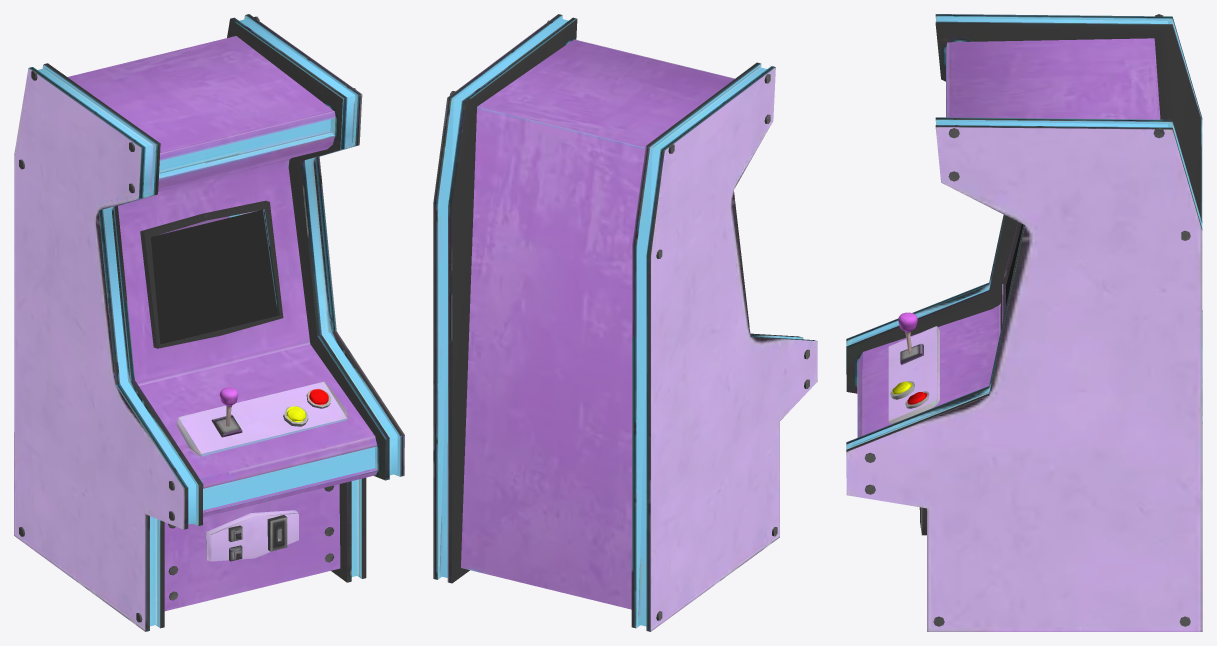
File: arcade.glb
3 renders of one model, left to right at view 1: azimuth 30°, elevation 25°; view 2: azimuth 150°, elevation 25°; view 3: azimuth 270°, elevation 25°, orthographic. The views are drawn at different scales.
Visible parts, largest first — view 1: defaultMaterial (×4); view 2: defaultMaterial; view 3: defaultMaterial (×3).
Part boxes in pixels (left/top/right/bottom): defaultMaterial (×4): left=14, top=14, right=404, bottom=631; defaultMaterial: left=433, top=14, right=817, bottom=631; defaultMaterial (×3): left=846, top=14, right=1202, bottom=631.
Size of the model in its own units: 0.8911 by 1.83 by 1.17.
5 materials, 4 textured.
